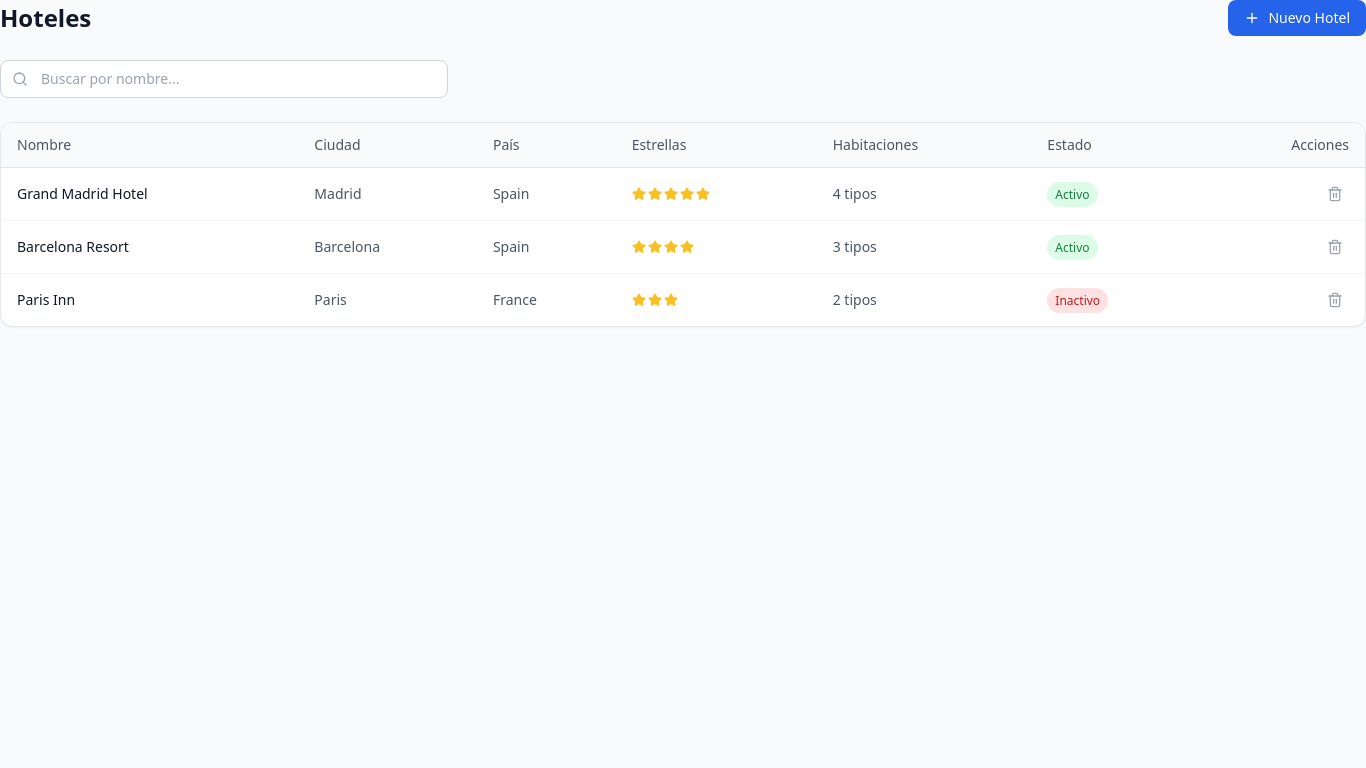
Test: HotelsPage › should show the create hotel modal when button is clicked
Click the button "Nuevo Hotel". click: (1297, 18)
box: x1=1228 y1=0 x2=1365 y2=36
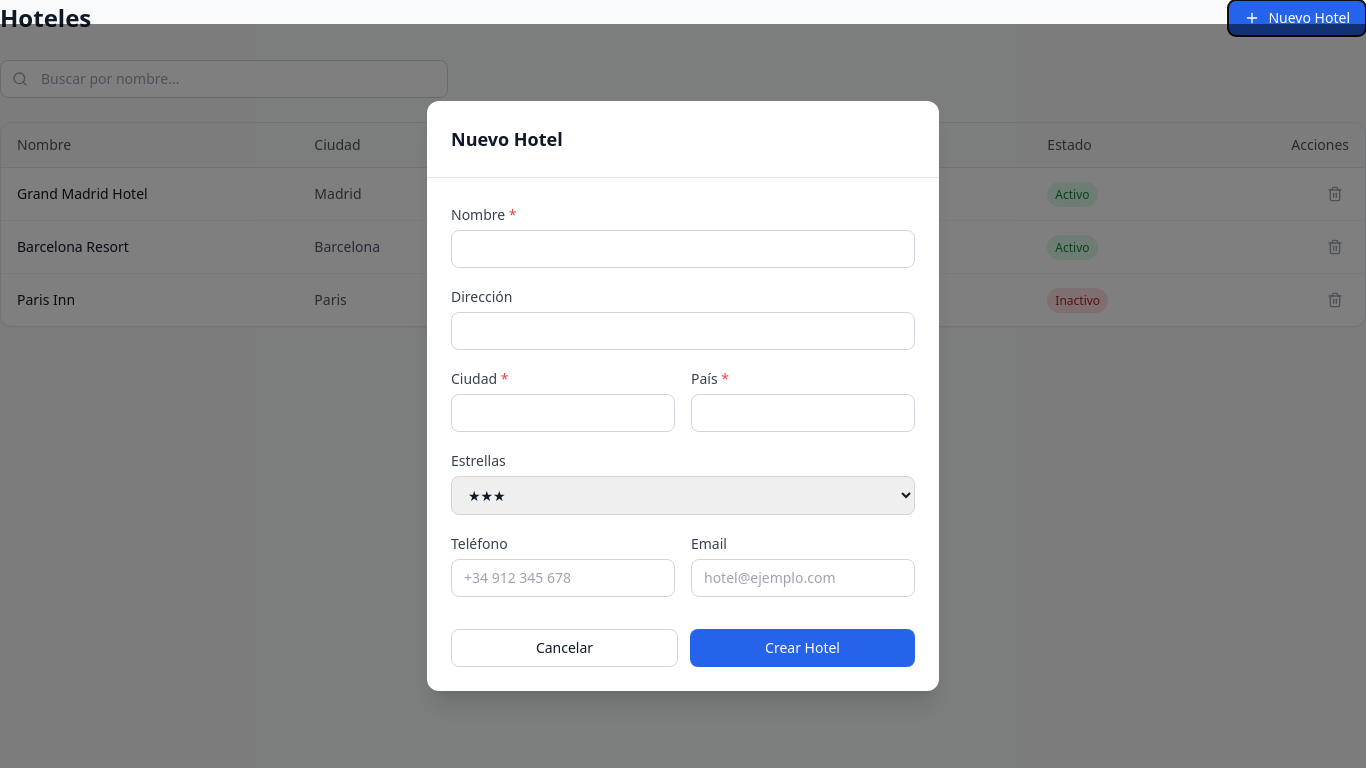
Expected: the heading "Nuevo Hotel" is shown, x1=451 y1=127 x2=563 y2=151
Expected: the button "Crear Hotel" is shown, x1=690 y1=629 x2=915 y2=667
